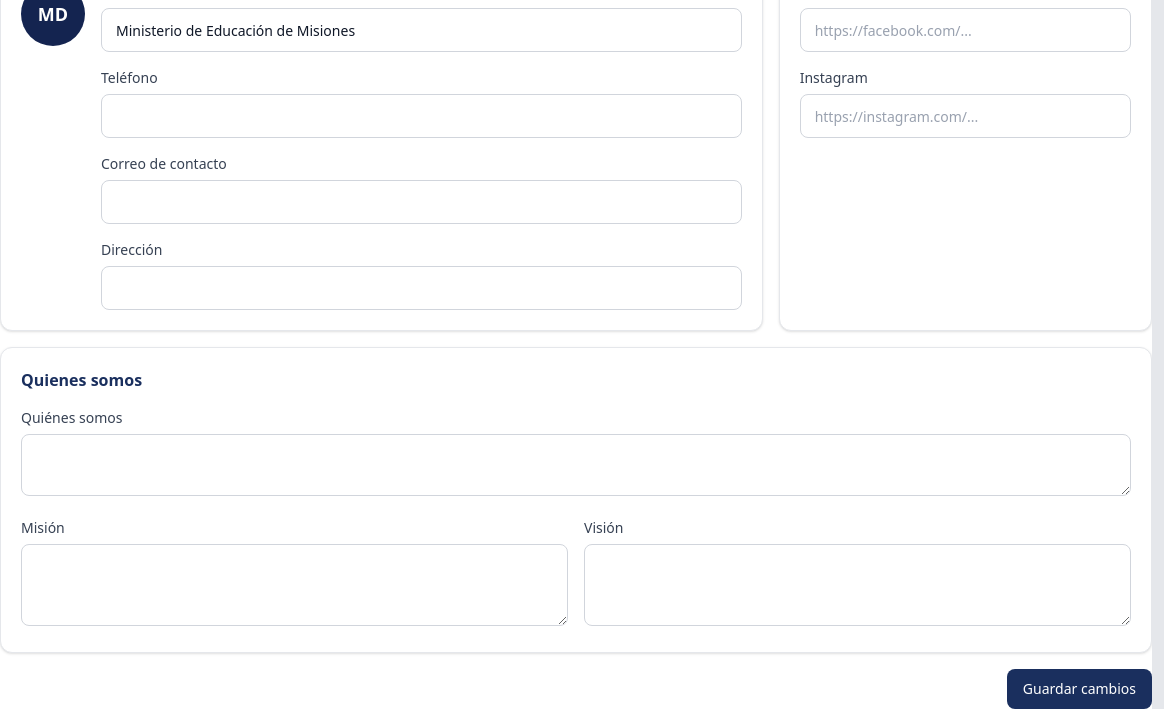
Test: ConfiguracionPage › permite guardar con solo el nombre completo y el resto vacío
The image size is (1164, 709).
(page scrolled)
Expected: the field labelled "Nombre de la institución" holds "Ministerio de Educación de Misiones", [101, 8, 742, 52]
Step 1. Click the button "Guardar cambios" → coordinates (1079, 689), box [1007, 669, 1152, 708]
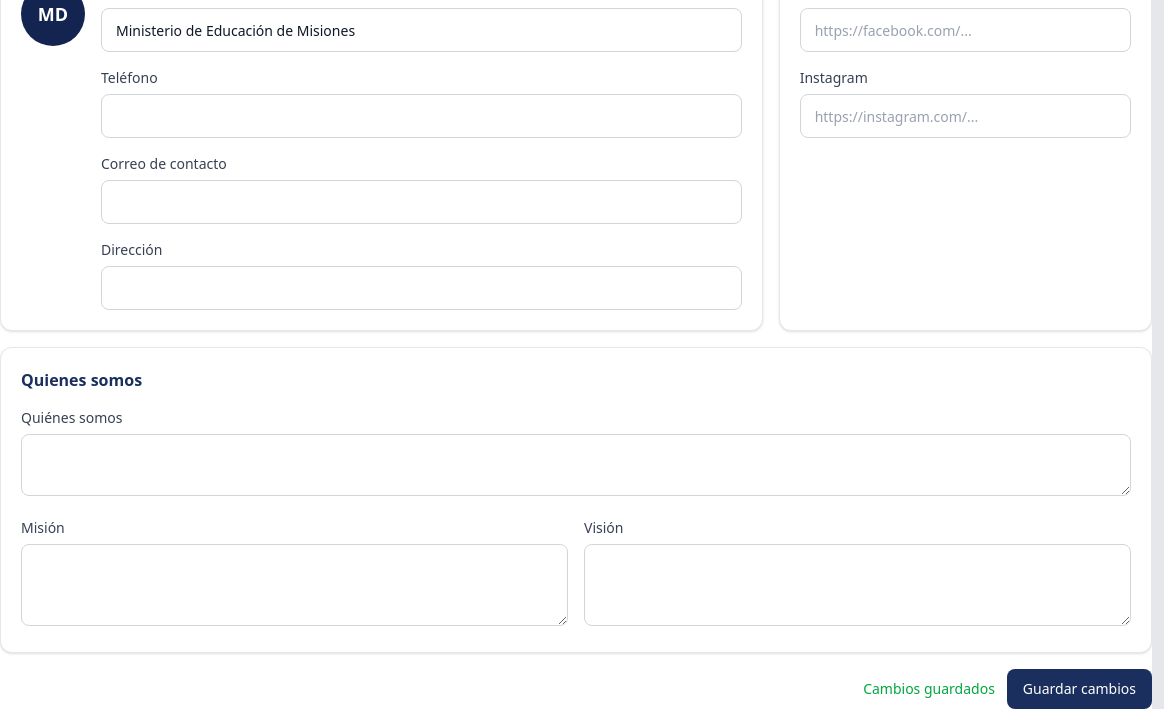
Expected: the text "Cambios guardados" is shown, [863, 679, 995, 699]
